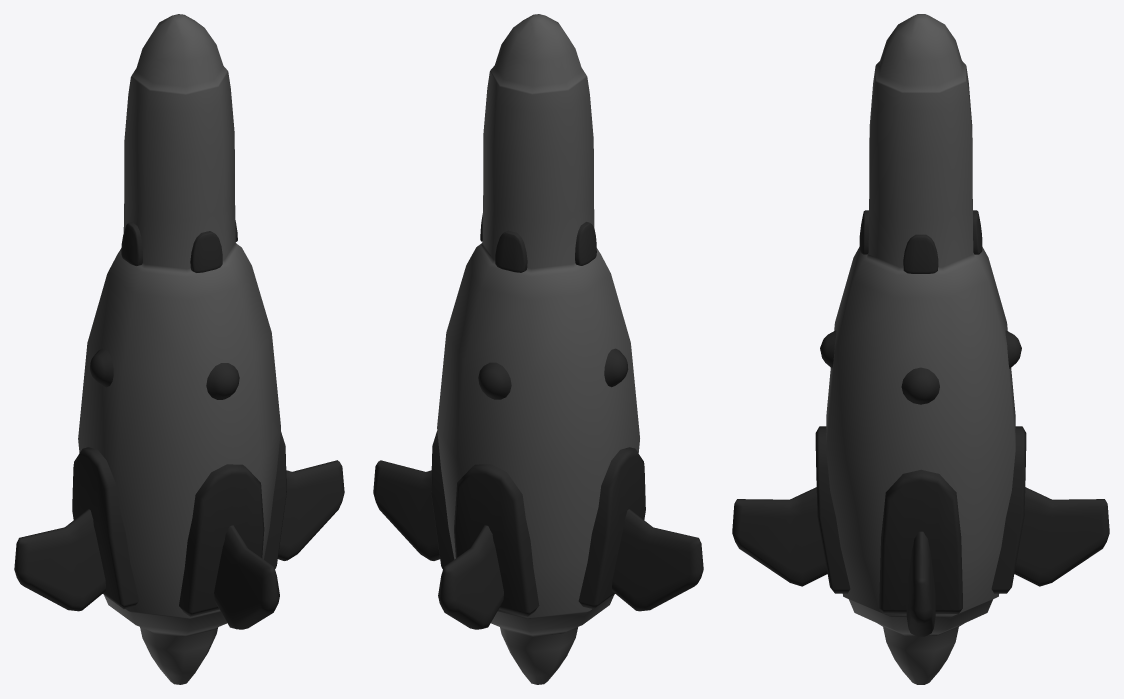
The model's file is _Rocket_02.fbx.
3 renders of one model, left to right at view 1: azimuth 30°, elevation 25°; view 2: azimuth 150°, elevation 25°; view 3: azimuth 270°, elevation 25°, orthographic.
Visible parts, largest first — view 1: Rocket_02; view 2: Rocket_02; view 3: Rocket_02.
Part boxes in pixels (box(x1,y1,x2,y2)): Rocket_02: box(14, 14, 344, 684); Rocket_02: box(373, 14, 703, 684); Rocket_02: box(732, 14, 1109, 684).
Bounding box in the file's own units: 119 × 231 × 119.
Materials: 1 (1 with a texture image).
